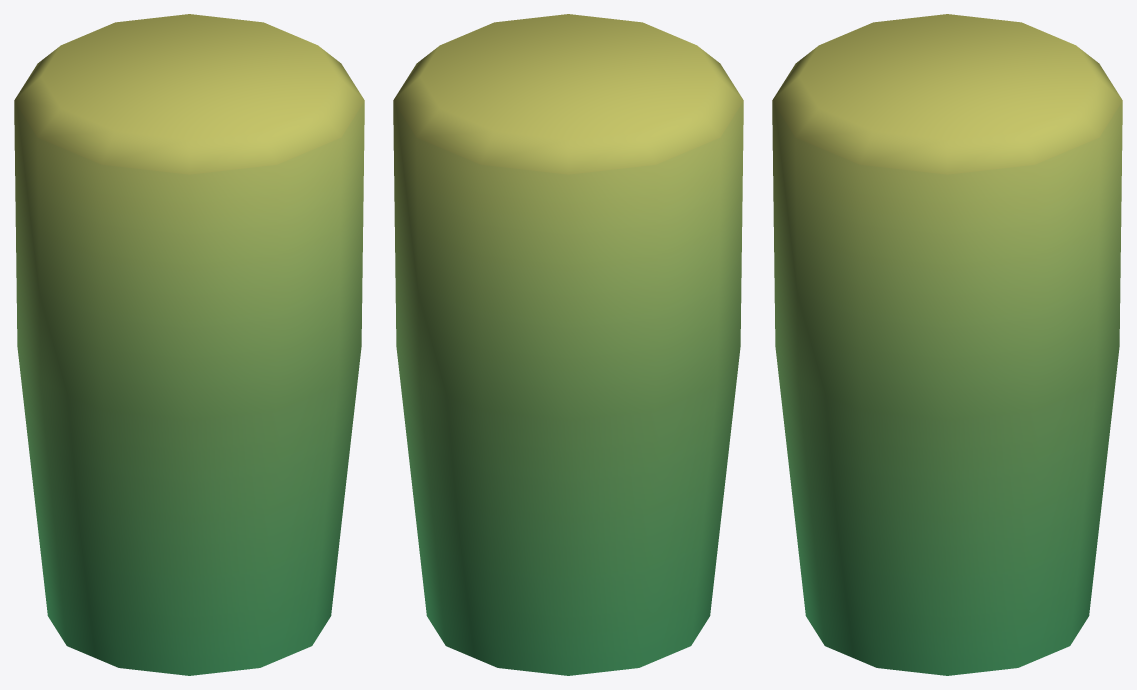
Rendered from Hedge_Round_01.fbx.
The picture shows the model from 3 angles, left to right: view 1: azimuth 30°, elevation 25°; view 2: azimuth 150°, elevation 25°; view 3: azimuth 270°, elevation 25°; orthographic projection.
Parts seen in each view (by area): view 1: Hedge_Round_01; view 2: Hedge_Round_01; view 3: Hedge_Round_01.
Part boxes in pixels (x1,y1,x2,y2): Hedge_Round_01: (14, 14, 364, 675); Hedge_Round_01: (393, 14, 743, 675); Hedge_Round_01: (772, 14, 1122, 675).
Size of the model in its own units: 118 by 200 by 118.
